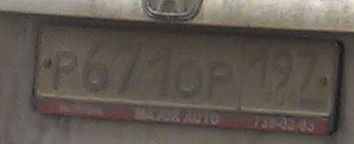character: (79, 29, 112, 97), (114, 37, 144, 98), (173, 55, 204, 104), (147, 41, 172, 100), (49, 48, 80, 94), (206, 55, 234, 102), (295, 45, 321, 93), (270, 47, 293, 92), (248, 45, 269, 94)
